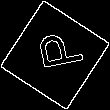P_W: (26, 31, 84, 79)
